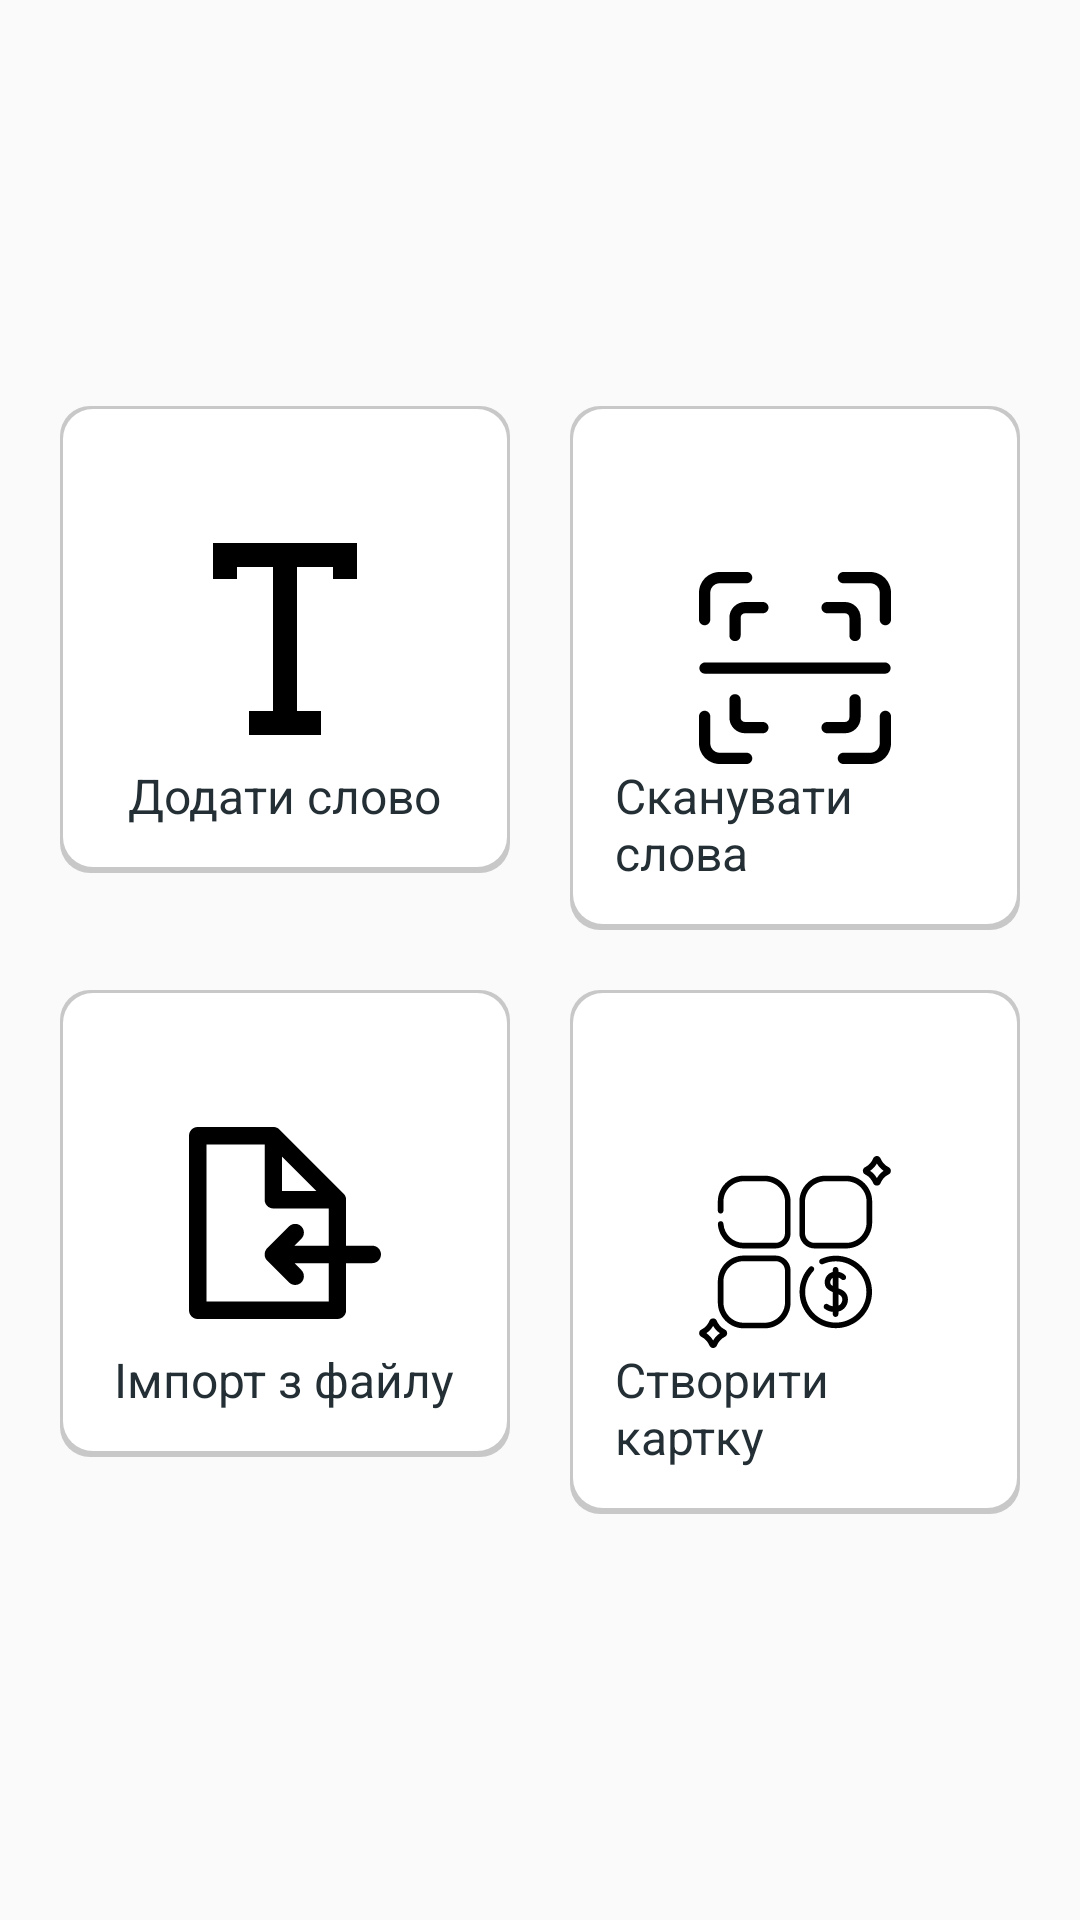

Screen size 1080px x 1920px. Icon name, then its box in pixels as (x1,y1,x2,y2):
add category: (699,1156,891,1348)
